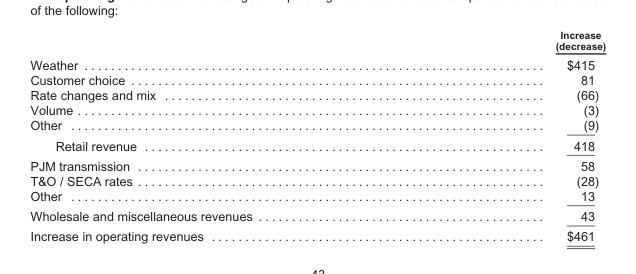table: (29, 28, 605, 243)
table column: (29, 28, 403, 243), (403, 28, 605, 243)
table column header: (29, 28, 605, 53)
table row: (29, 28, 605, 53), (29, 134, 605, 155), (29, 205, 605, 225), (29, 53, 605, 71), (29, 187, 605, 205), (29, 225, 605, 243), (29, 117, 605, 134), (29, 155, 605, 172), (29, 86, 605, 102), (29, 71, 605, 86), (29, 102, 605, 117), (29, 172, 605, 187)
